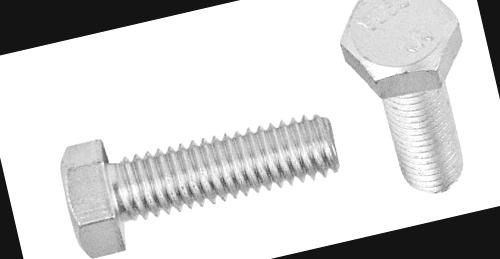screw: (329, 0, 472, 106)
